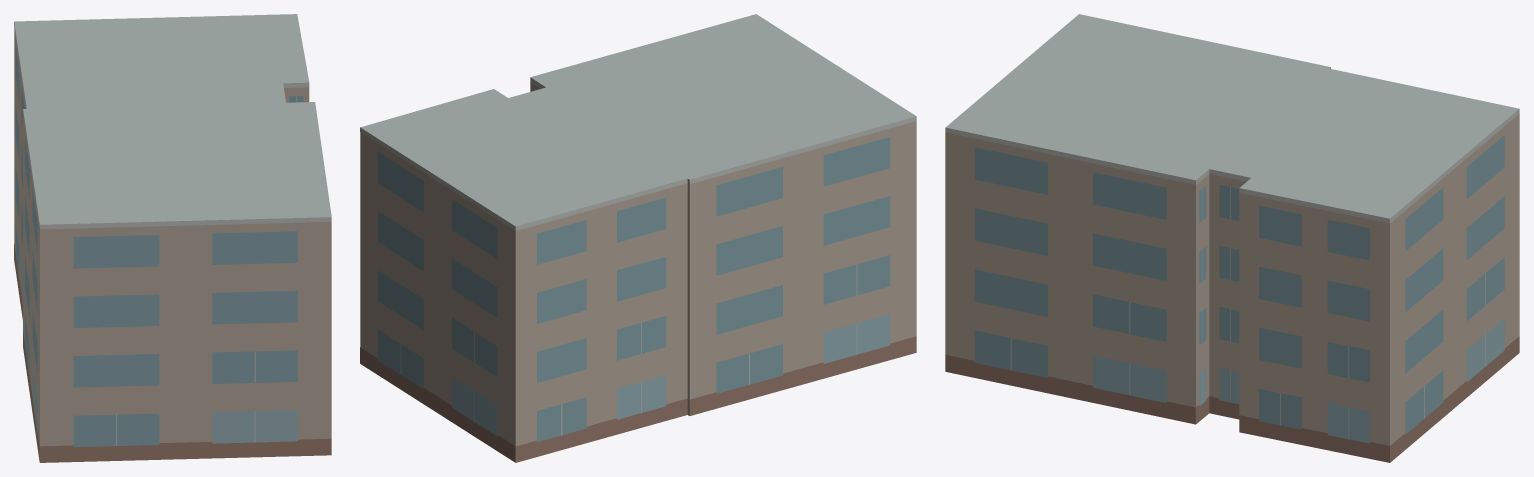
The model's file is survey-upis-32994326.glb.
3 renders of one model, left to right at view 1: azimuth 30°, elevation 25°; view 2: azimuth 150°, elevation 25°; view 3: azimuth 270°, elevation 25°, orthographic. The views are drawn at different scales.
Visible parts, largest first — view 1: survey-upis-32994326.tmp; view 2: survey-upis-32994326.tmp; view 3: survey-upis-32994326.tmp.
Part boxes in pixels (<box>): survey-upis-32994326.tmp: <box>14,14,331,462</box>; survey-upis-32994326.tmp: <box>360,14,916,462</box>; survey-upis-32994326.tmp: <box>945,14,1519,462</box>.
Size of the model in its own units: 22.48 by 12.5 by 26.65.
